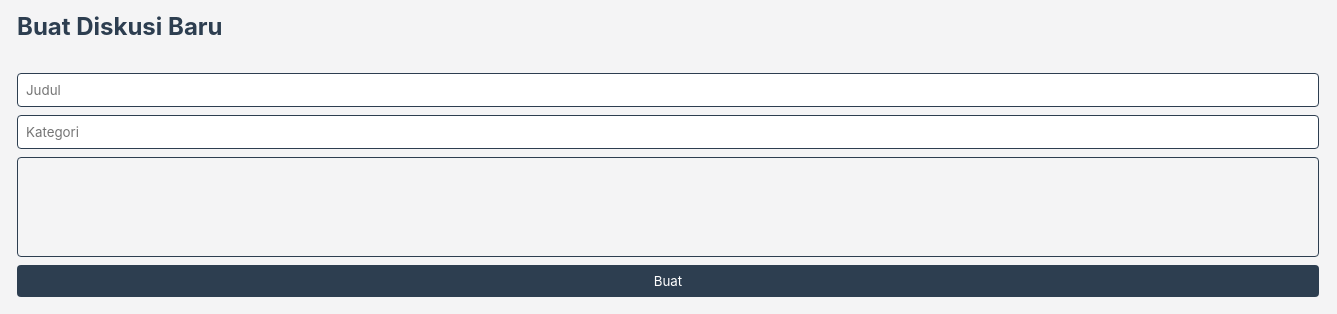
it: ThreadInput component › should handle body typing correctly
Click the text box with test id "input-body". click: (668, 207)
box: [17,157,1319,257]
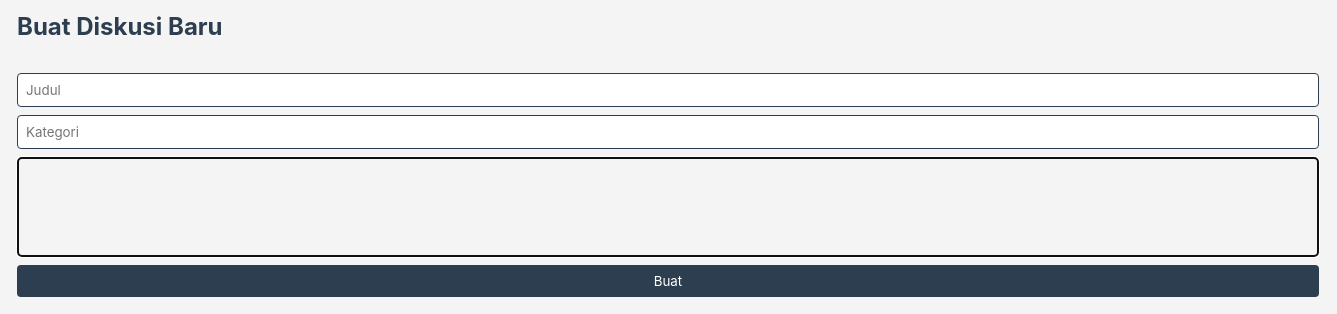
Type keys "test"
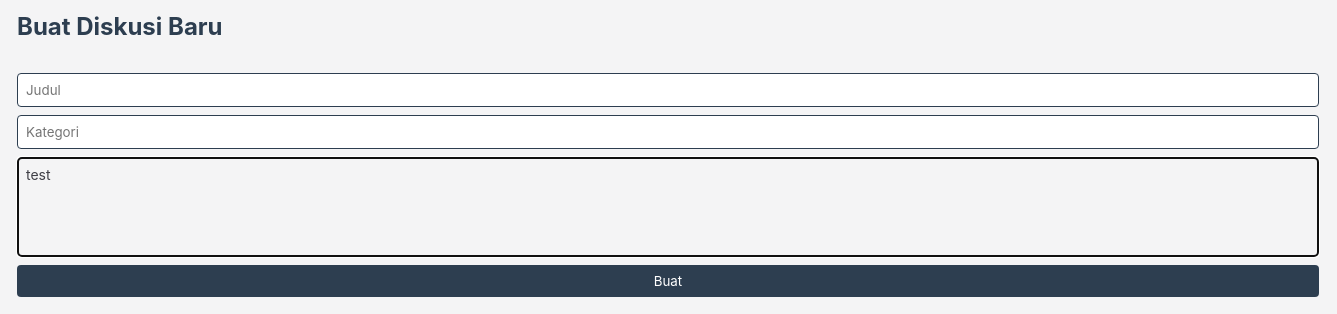
Expected: the text box with test id "input-body" reads "test", [17,157,1319,257]
